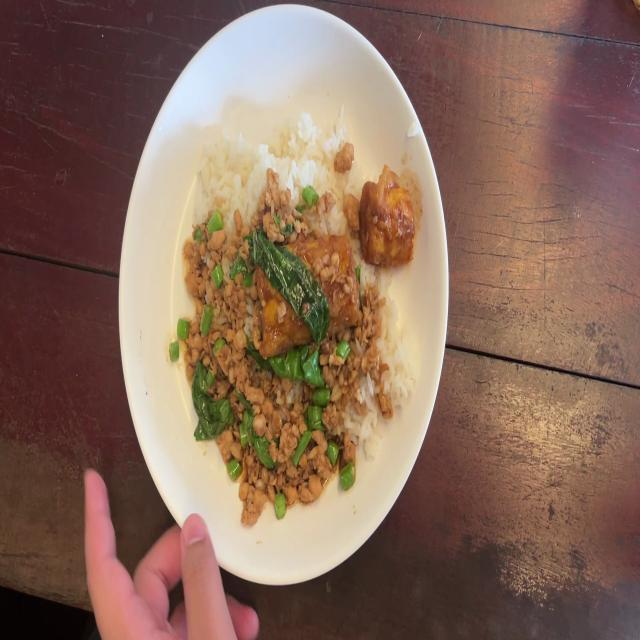01rice: (196, 116, 330, 209), (382, 276, 419, 420)
fried_tofo: (255, 243, 357, 334), (364, 174, 413, 270)
minced_pork: (182, 246, 257, 514), (246, 347, 344, 501), (186, 191, 320, 260), (344, 292, 379, 382)
stir_fried_basil: (179, 119, 417, 518)
